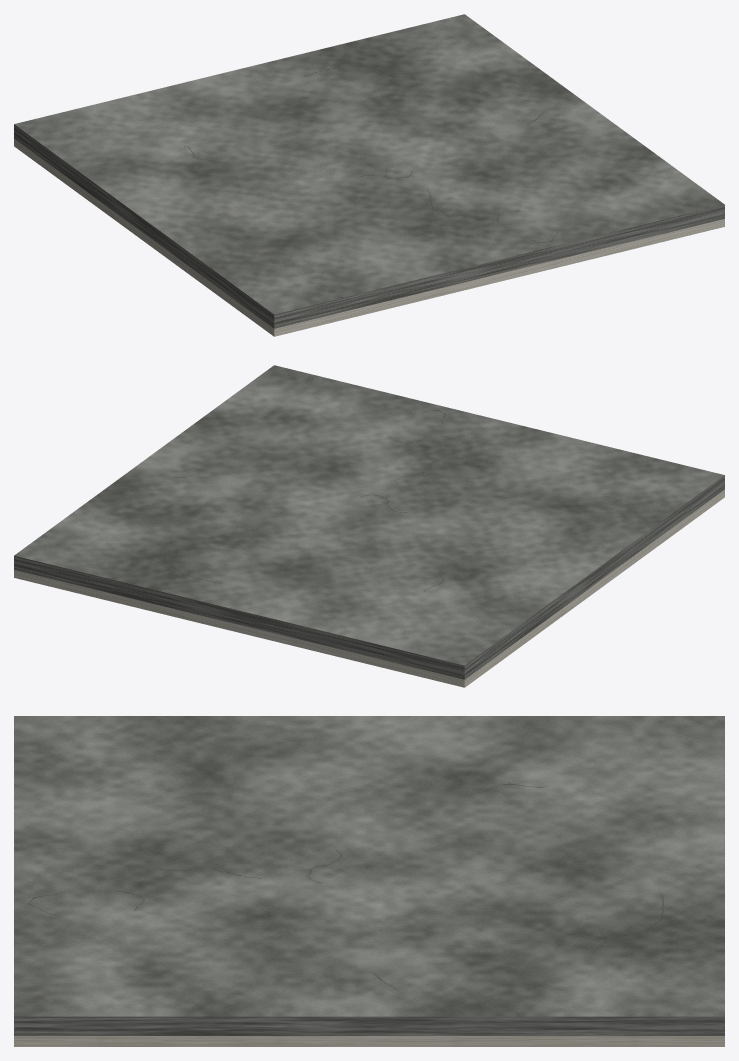
The model's file is PZ_Ceiling_4m_Plaster.glb.
The picture shows the model from 3 angles, top to bottom: view 1: azimuth 30°, elevation 25°; view 2: azimuth 150°, elevation 25°; view 3: azimuth 270°, elevation 25°; orthographic projection. The views are drawn at different scales.
Parts seen in each view (by area): view 1: Ceiling_Structural_Back, Ceiling_Painted_Drywall, Ceiling_Perimeter_J_Trim; view 2: Ceiling_Structural_Back, Ceiling_Painted_Drywall, Ceiling_Perimeter_J_Trim; view 3: Ceiling_Structural_Back, Ceiling_Painted_Drywall, Ceiling_Perimeter_J_Trim.
Boxes of the visible parts, bbox=[...] form: Ceiling_Structural_Back: bbox=[14, 14, 724, 328]; Ceiling_Painted_Drywall: bbox=[14, 138, 724, 335]; Ceiling_Perimeter_J_Trim: bbox=[14, 145, 724, 336]; Ceiling_Structural_Back: bbox=[14, 365, 724, 679]; Ceiling_Painted_Drywall: bbox=[14, 489, 724, 686]; Ceiling_Perimeter_J_Trim: bbox=[14, 496, 724, 687]; Ceiling_Structural_Back: bbox=[14, 716, 724, 1035]; Ceiling_Painted_Drywall: bbox=[14, 1036, 724, 1045]; Ceiling_Perimeter_J_Trim: bbox=[14, 1045, 724, 1046].
Bounding box in the file's own units: 4 × 0.188 × 4.
Materials: 2 (2 with a texture image).
